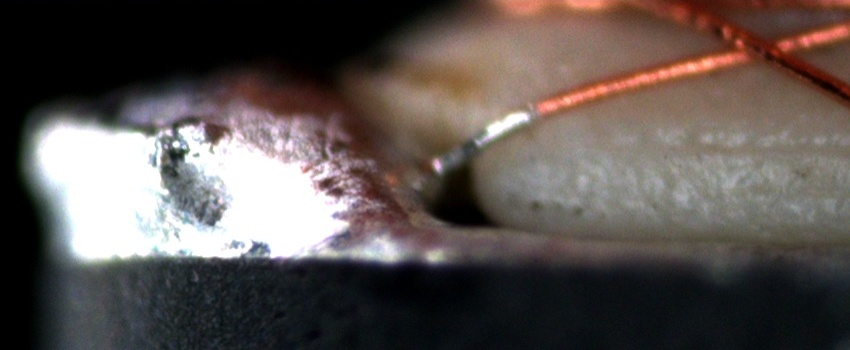CL: (698, 22, 821, 71)
DL: (664, 114, 850, 178)
TS: (432, 101, 540, 174)
